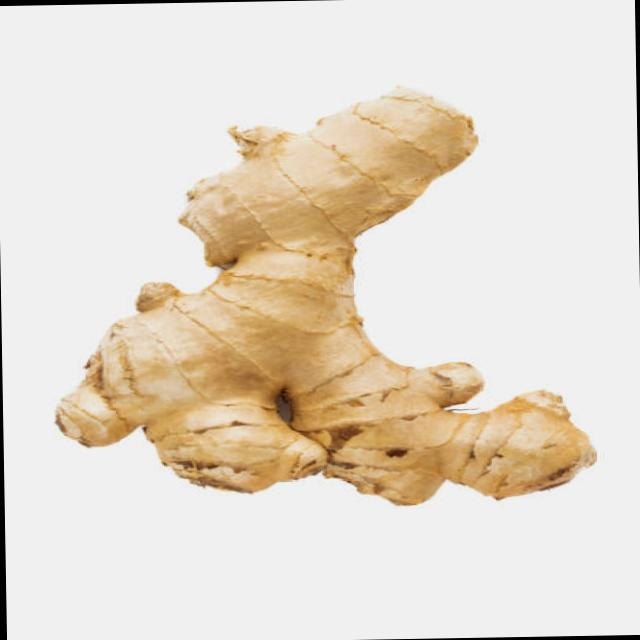ginger-root: (41, 61, 598, 521)
